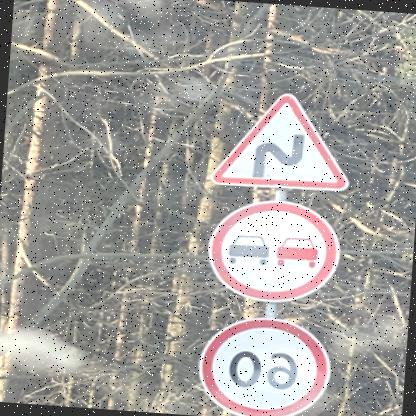speedlimit: (199, 314, 338, 415)
